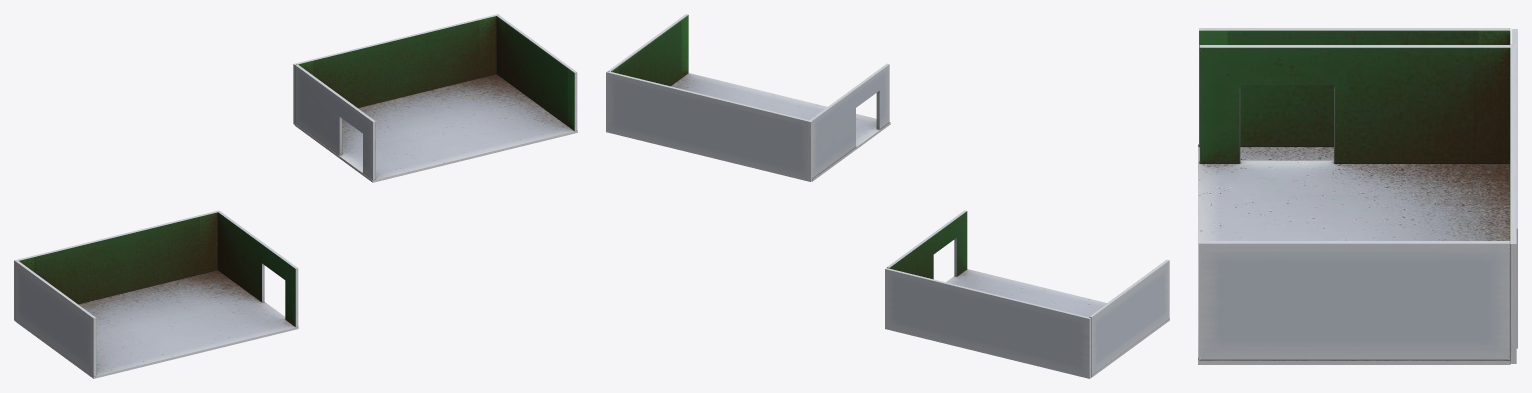
Rendered from ATO6-1.fbx.
3 renders of one model, left to right at view 1: azimuth 30°, elevation 25°; view 2: azimuth 150°, elevation 25°; view 3: azimuth 270°, elevation 25°, orthographic. The views are drawn at different scales.
Visible parts, largest first — view 1: polySurface14, polySurface18, polySurface11, polySurface15, polySurface13, polySurface16, polySurface17, polySurface12; view 2: polySurface15, polySurface11, polySurface16, polySurface12, polySurface14, polySurface13, polySurface18, polySurface17; view 3: polySurface13, polySurface12, polySurface14, polySurface16, polySurface11, polySurface18, polySurface15.
Boxes of the visible parts, x1,y1,x2,y2 form: polySurface14: [294, 74, 577, 182]; polySurface18: [15, 270, 298, 378]; polySurface11: [293, 14, 499, 124]; polySurface15: [14, 210, 219, 321]; polySurface13: [496, 15, 577, 130]; polySurface16: [15, 260, 96, 376]; polySurface17: [218, 211, 298, 326]; polySurface12: [295, 64, 375, 179]; polySurface15: [885, 268, 1091, 378]; polySurface11: [606, 71, 812, 181]; polySurface16: [1089, 259, 1169, 375]; polySurface12: [810, 63, 889, 178]; polySurface14: [671, 73, 890, 181]; polySurface13: [608, 14, 688, 86]; polySurface18: [946, 269, 1169, 377]; polySurface17: [886, 210, 967, 279]; polySurface13: [1198, 241, 1510, 359]; polySurface12: [1199, 45, 1510, 163]; polySurface14: [1198, 160, 1510, 364]; polySurface16: [1199, 28, 1510, 146]; polySurface11: [1510, 44, 1516, 363]; polySurface18: [1198, 144, 1333, 160]; polySurface15: [1511, 29, 1517, 348].
Size of the model in its own units: 66.82 by 24.87 by 19.1.
Materials: 1 (1 with a texture image).
